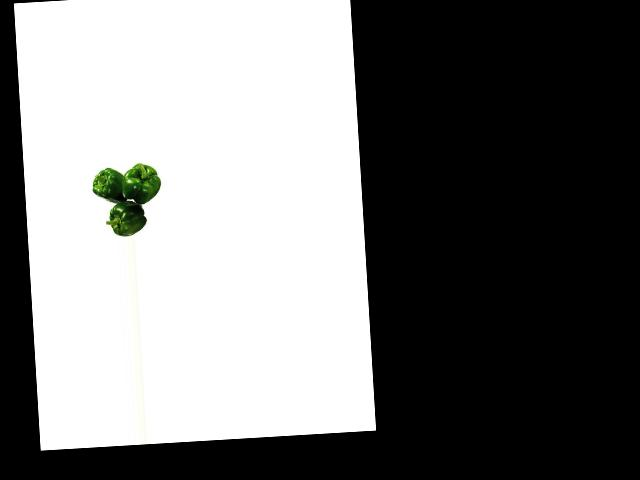bell_pepper: (119, 158, 165, 205)
